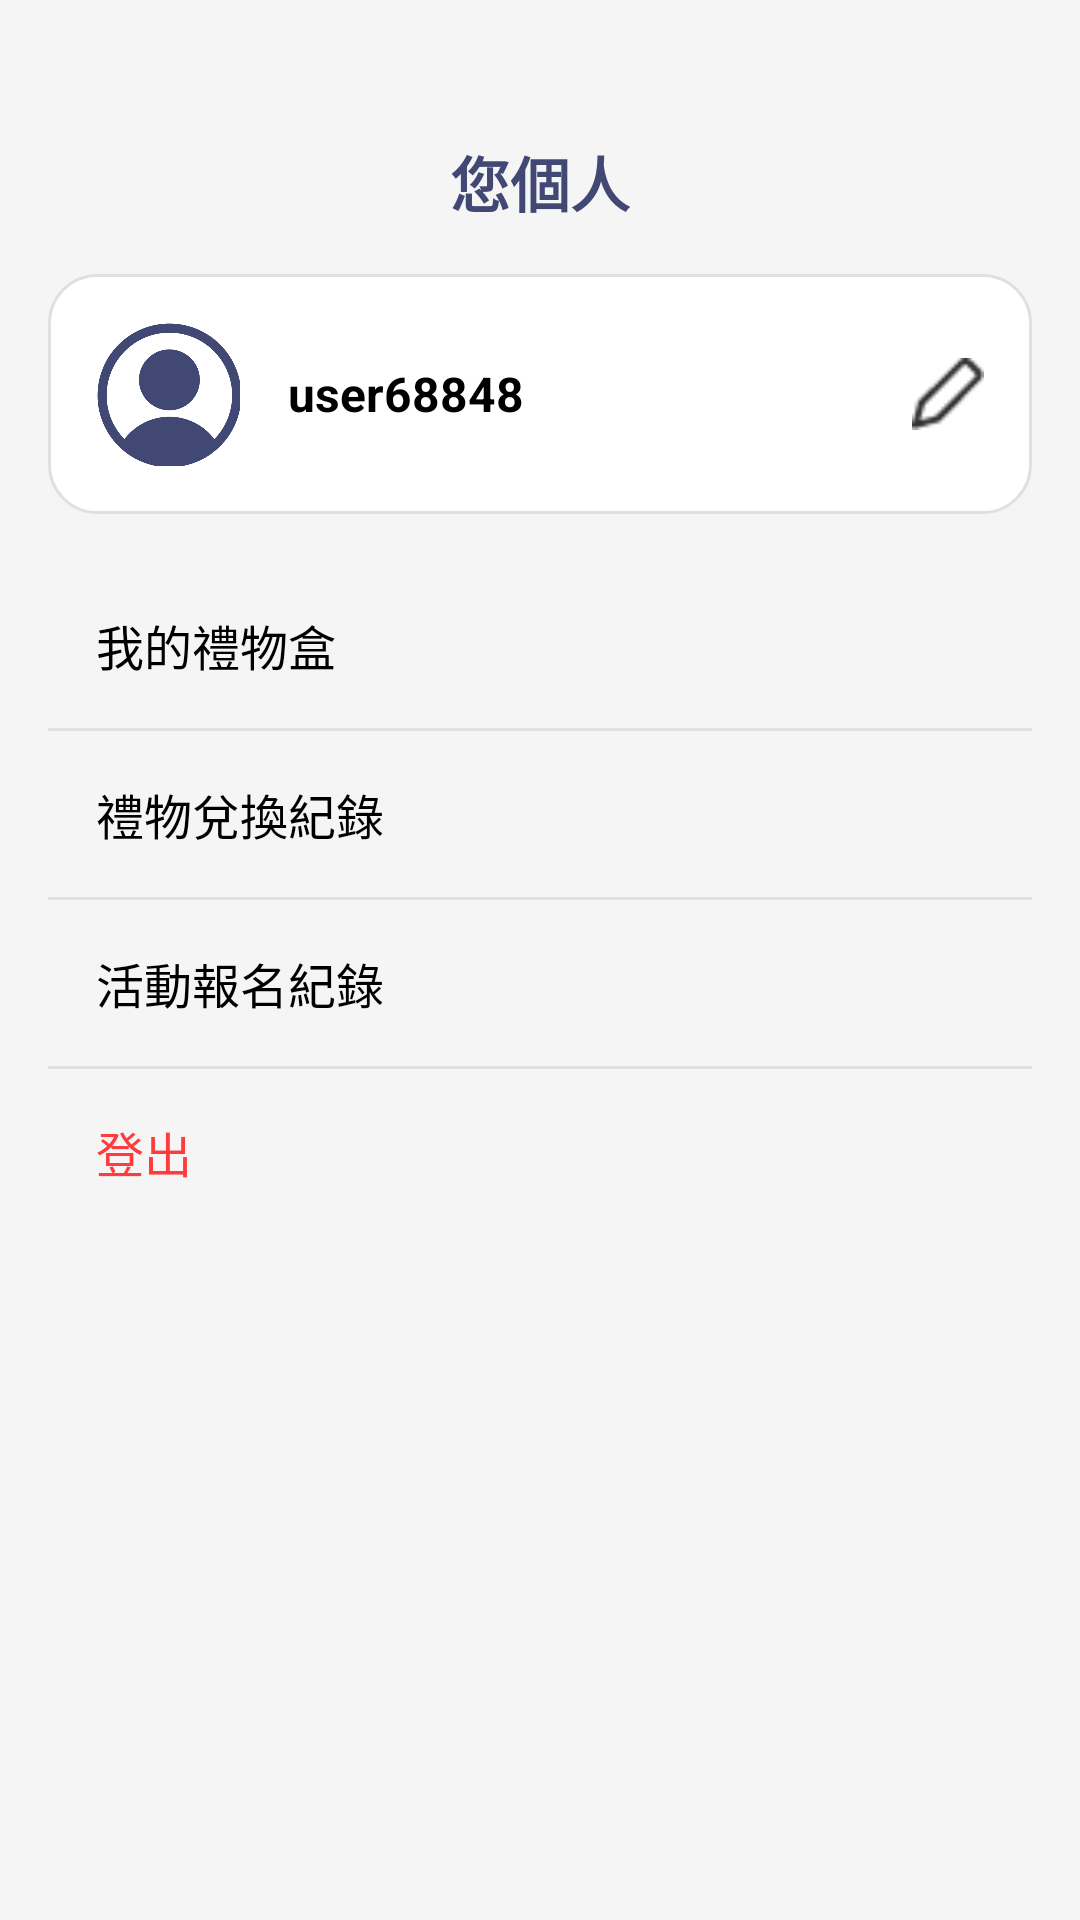

Locate icon controls on the screen. Image size 1080 x 1920, boxes as (x1, y1, x2, y2).
edit username: (912, 358, 984, 430)
user avatar: (97, 323, 240, 466)
